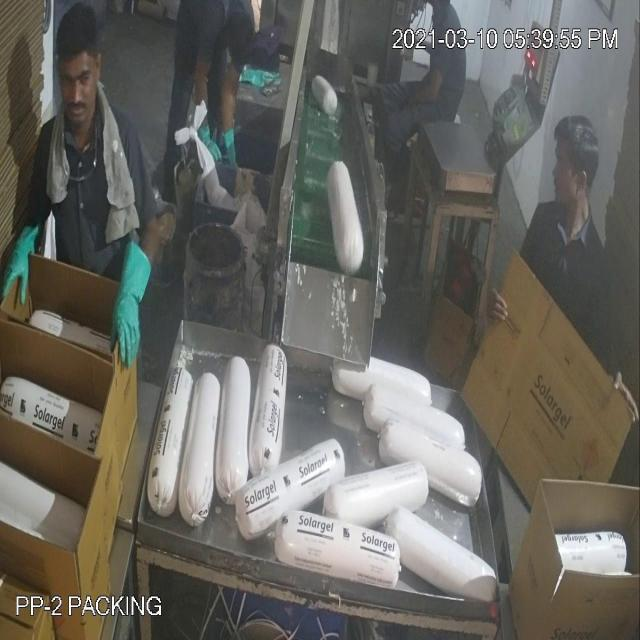Gloves: (24, 102, 131, 307)
